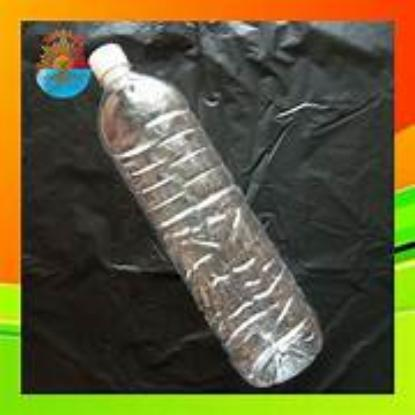Plastic Bottle: (85, 42, 326, 390)
